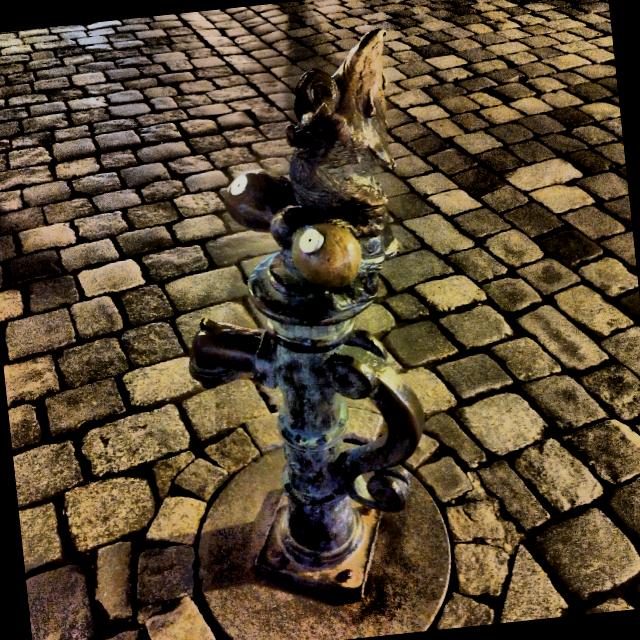Orzezwiacz: (189, 29, 398, 401)
